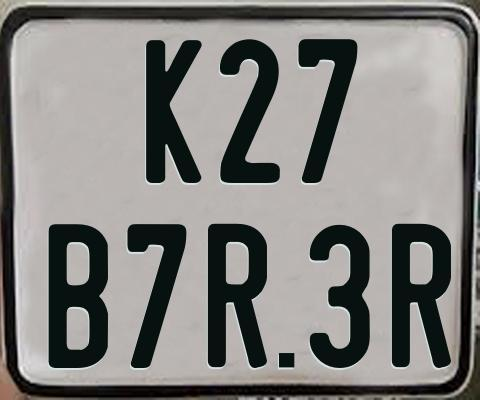2: (219, 38, 279, 182)
3: (307, 223, 370, 366)
7: (127, 222, 193, 368), (298, 39, 363, 187)
B: (49, 223, 114, 367)
K: (143, 39, 202, 187)
R: (206, 223, 270, 373), (391, 224, 451, 369)
